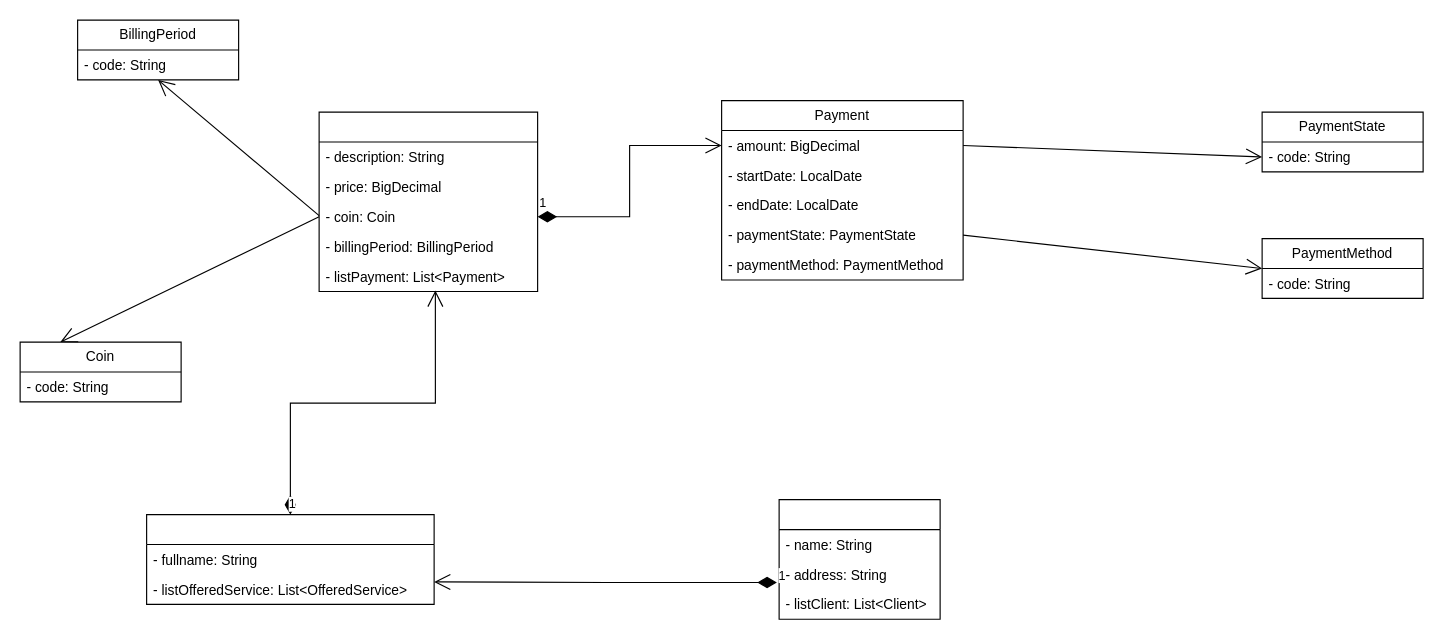
The diagram is 1443 pixels wide and 643 high, and some of its shapes have lost their labels. Here are the shapes that lost their labels. From the top down, the box of each, then its label:
(318, 111, 538, 292): OfferedService
(145, 513, 434, 604): Client
(778, 499, 940, 619): Company
